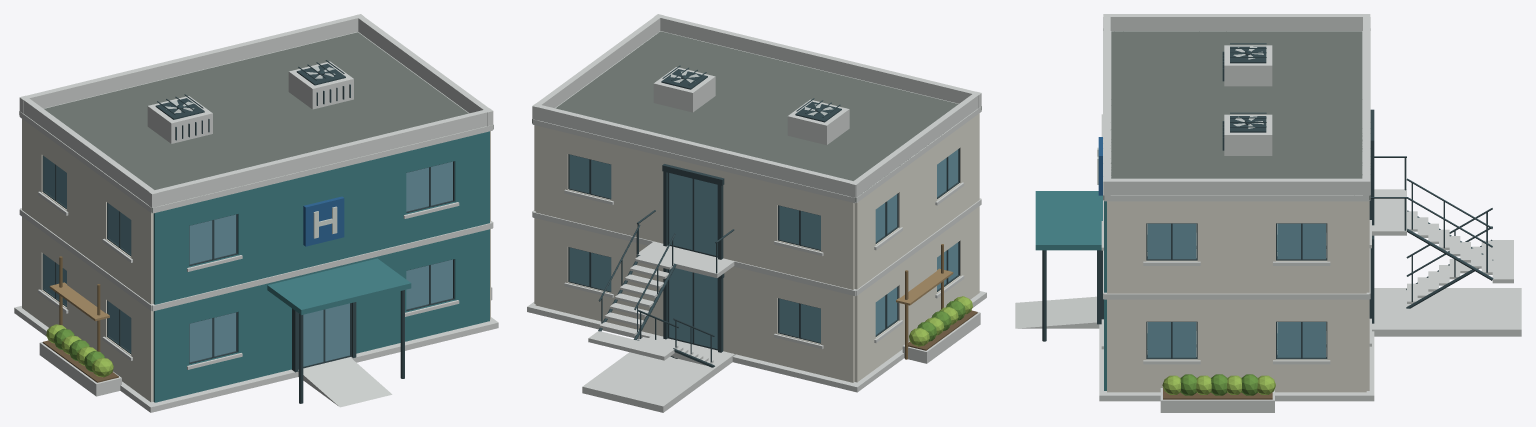
The model's file is hospital.glb.
3 views of the same model, side by side, from view 1: azimuth 30°, elevation 25°; view 2: azimuth 150°, elevation 25°; view 3: azimuth 270°, elevation 25° (orthographic). The views are drawn at different scales.
Visible parts, largest first — view 1: Roof_mesh, FrontWall.001_mesh, FrontWall_mesh, SideWall.002_mesh, SideWall_mesh, Windows.001_mesh, Windows_mesh, Canopy_mesh, FloorBands.001_mesh, Foundation_mesh, FloorBands_mesh, GardenUpgrade_mesh (+8 smaller); view 2: Roof_mesh, RearWall.001_mesh, RearWall_mesh, SideWall.002_mesh, SideWall_mesh, RearApron_mesh, Windows.001_mesh, SwitchbackStair_mesh, Windows_mesh, FloorBands.001_mesh, GardenUpgrade_mesh, Foundation_mesh (+11 smaller); view 3: Roof_mesh, SideWall.003_mesh, SideWall.001_mesh, RearApron_mesh, SwitchbackStair_mesh, Windows_mesh, Windows.001_mesh, Canopy_mesh, GardenUpgrade_mesh, FloorBands.001_mesh, EntranceRamp_mesh, Foundation_mesh (+6 smaller).
Boxes of the visible parts, bbox=[...] form: Roof_mesh: bbox=[19, 14, 493, 212]; FrontWall.001_mesh: bbox=[153, 131, 489, 304]; FrontWall_mesh: bbox=[153, 229, 489, 402]; SideWall.002_mesh: bbox=[22, 119, 153, 304]; SideWall_mesh: bbox=[22, 217, 153, 402]; Windows.001_mesh: bbox=[38, 155, 459, 271]; Windows_mesh: bbox=[38, 253, 459, 369]; Canopy_mesh: bbox=[267, 258, 411, 403]; FloorBands.001_mesh: bbox=[19, 32, 493, 213]; Foundation_mesh: bbox=[14, 306, 498, 412]; FloorBands_mesh: bbox=[19, 208, 493, 311]; GardenUpgrade_mesh: bbox=[39, 287, 492, 396]; Roof_mesh: bbox=[532, 14, 981, 202]; RearWall.001_mesh: bbox=[535, 125, 854, 289]; RearWall_mesh: bbox=[535, 218, 854, 382]; SideWall.002_mesh: bbox=[854, 113, 979, 289]; SideWall_mesh: bbox=[854, 206, 979, 382]; RearApron_mesh: bbox=[582, 334, 735, 412]; Windows.001_mesh: bbox=[564, 148, 964, 256]; SwitchbackStair_mesh: bbox=[588, 224, 714, 367]; Windows_mesh: bbox=[564, 241, 964, 349]; FloorBands.001_mesh: bbox=[532, 31, 981, 203]; GardenUpgrade_mesh: bbox=[902, 296, 980, 363]; Foundation_mesh: bbox=[527, 291, 986, 392]; Roof_mesh: bbox=[1103, 14, 1370, 199]; SideWall.003_mesh: bbox=[1107, 201, 1366, 293]; SideWall.001_mesh: bbox=[1107, 299, 1366, 392]; RearApron_mesh: bbox=[1372, 288, 1521, 336]; SwitchbackStair_mesh: bbox=[1406, 178, 1513, 308]; Windows_mesh: bbox=[1101, 318, 1371, 364]; Windows.001_mesh: bbox=[1101, 114, 1371, 265]; Canopy_mesh: bbox=[1035, 191, 1102, 341]; GardenUpgrade_mesh: bbox=[1160, 374, 1275, 412]; FloorBands.001_mesh: bbox=[1103, 28, 1370, 201]; EntranceRamp_mesh: bbox=[1015, 296, 1099, 328]; Foundation_mesh: bbox=[1099, 324, 1374, 401].
Size of the model in its own units: 12.06 by 6.67 by 13.26.
